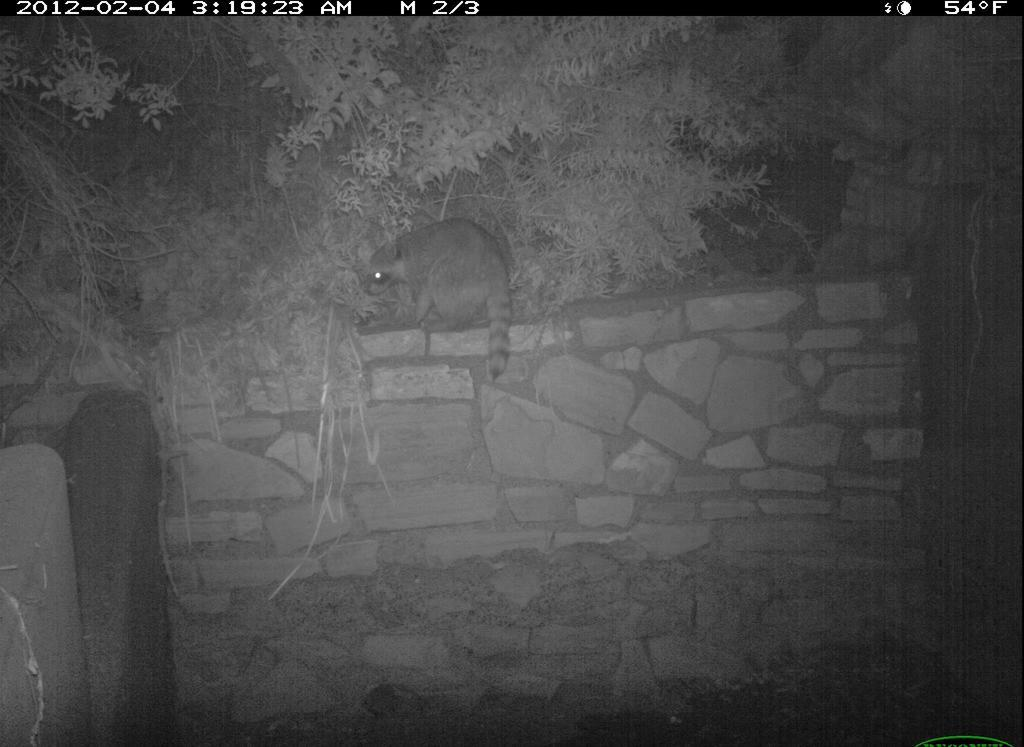raccoon: (363, 213, 518, 387)
